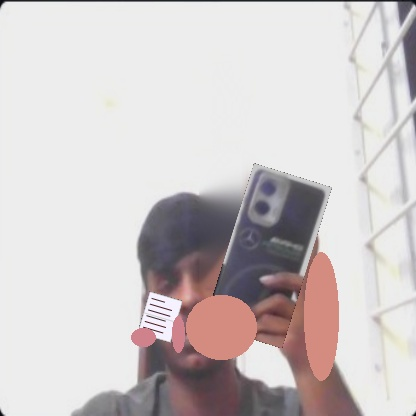cell_phone: (204, 163, 332, 348)
cheat_chit: (137, 291, 182, 343)
